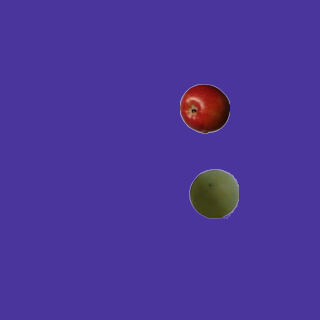Apple Braeburn: (179, 83, 229, 133)
Grape White 4: (188, 168, 238, 218)
